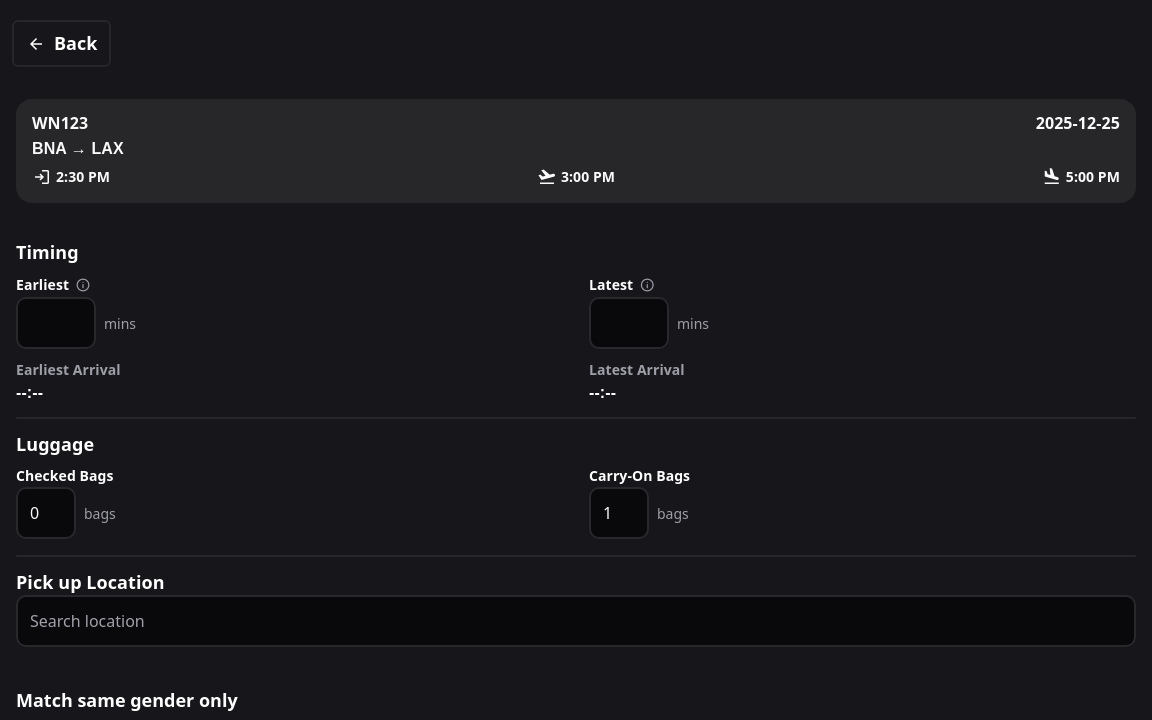
Scenario: RidePreferencesScreen › Timing Inputs › only allows numeric input for earliest time
The width and height of the screenshot is (1152, 720).
Type "abc123" into the 1st field at [56, 323], box top-left (16, 297), bottom-right (96, 349)
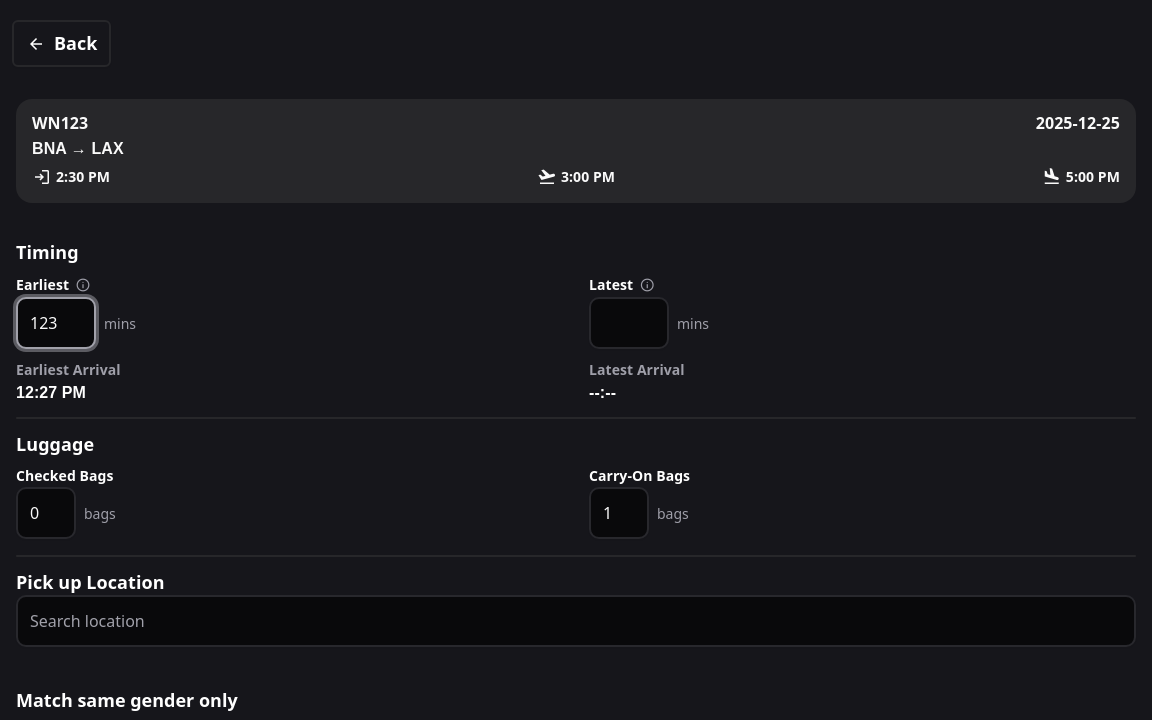
Result: the 1st field holds "123" at top-left (16, 297), bottom-right (96, 349)
